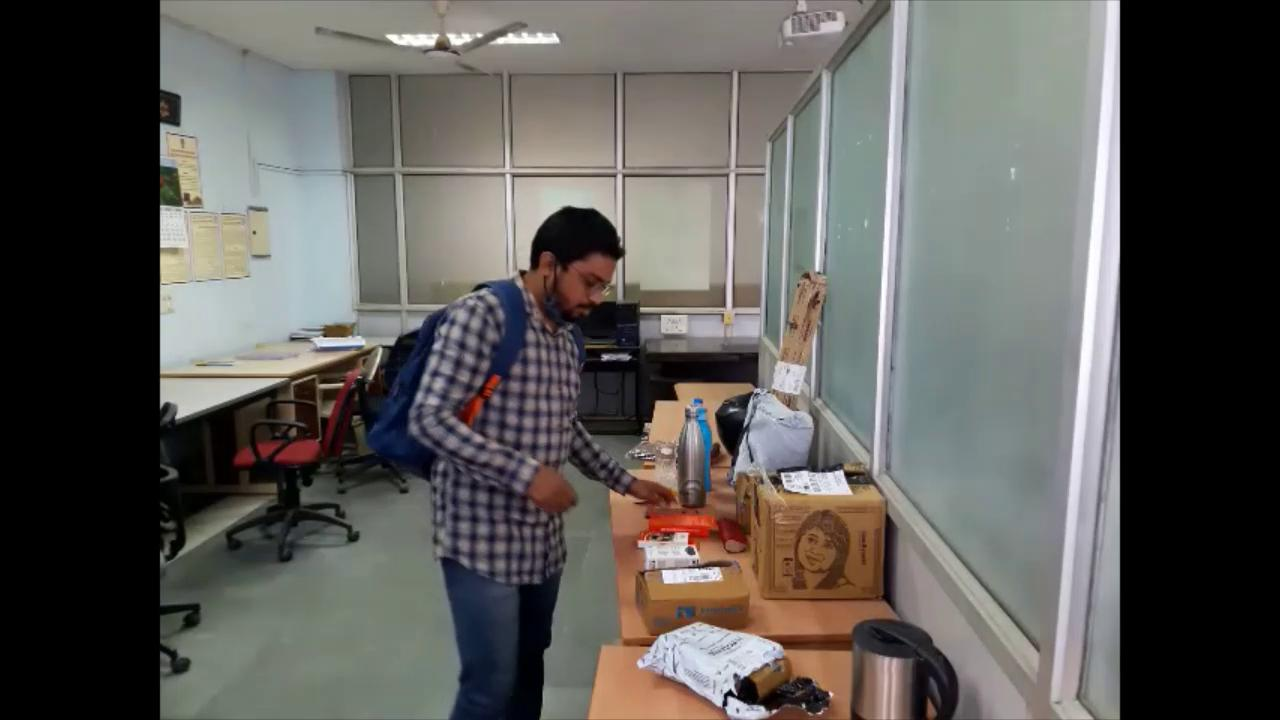Normal: (356, 168, 685, 720)
